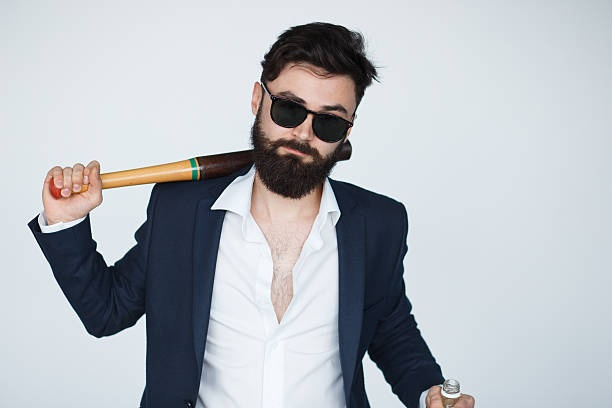bita: (54, 146, 356, 196)
